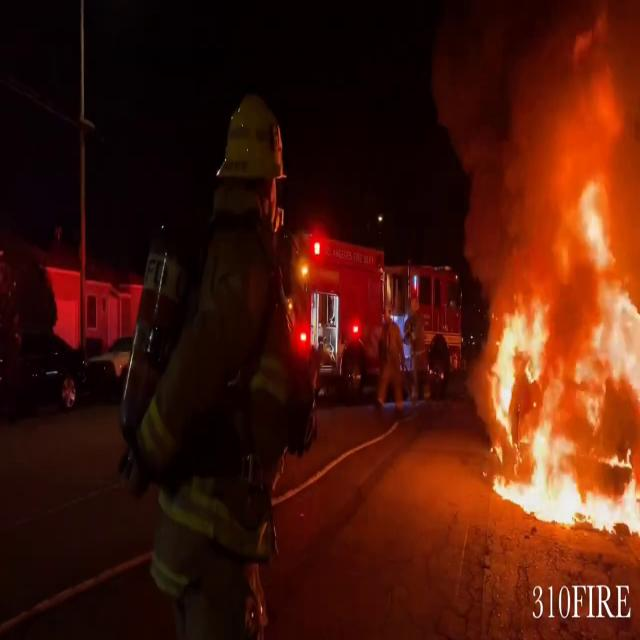Fire: (480, 138, 640, 538)
